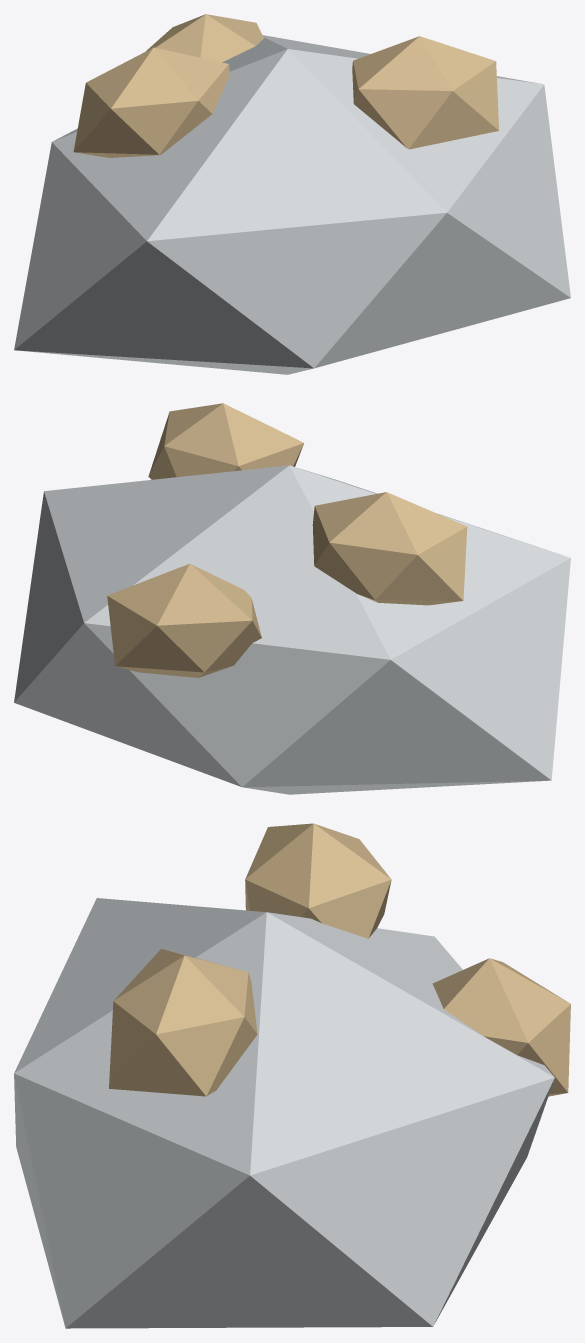
File: amorium.glb
3 renders of one model, top to bottom at view 1: azimuth 30°, elevation 25°; view 2: azimuth 150°, elevation 25°; view 3: azimuth 270°, elevation 25°, orthographic. The views are drawn at different scales.
Visible parts, largest first — view 1: amorium / Moondust, amorium / Amorium; view 2: amorium / Moondust, amorium / Amorium; view 3: amorium / Moondust, amorium / Amorium.
Boxes of the visible parts, x1,y1,x2,y2 form: amorium / Moondust: (14,35,570,374); amorium / Amorium: (73,14,499,157); amorium / Moondust: (14,465,570,794); amorium / Amorium: (107,403,467,677); amorium / Moondust: (14,898,554,1328); amorium / Amorium: (109,823,570,1096).
Size of the model in its own units: 0.314 by 0.1985 by 0.2375.
